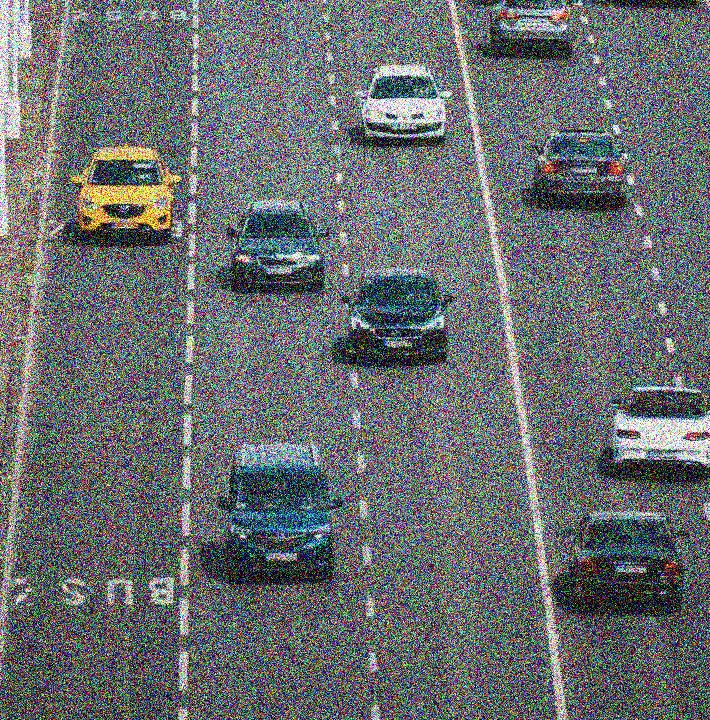car: (207, 432, 349, 583), (554, 498, 697, 619), (61, 137, 187, 252), (340, 254, 456, 373), (599, 367, 710, 481), (518, 116, 646, 210), (343, 57, 464, 145), (221, 193, 327, 293), (483, 0, 582, 53)
